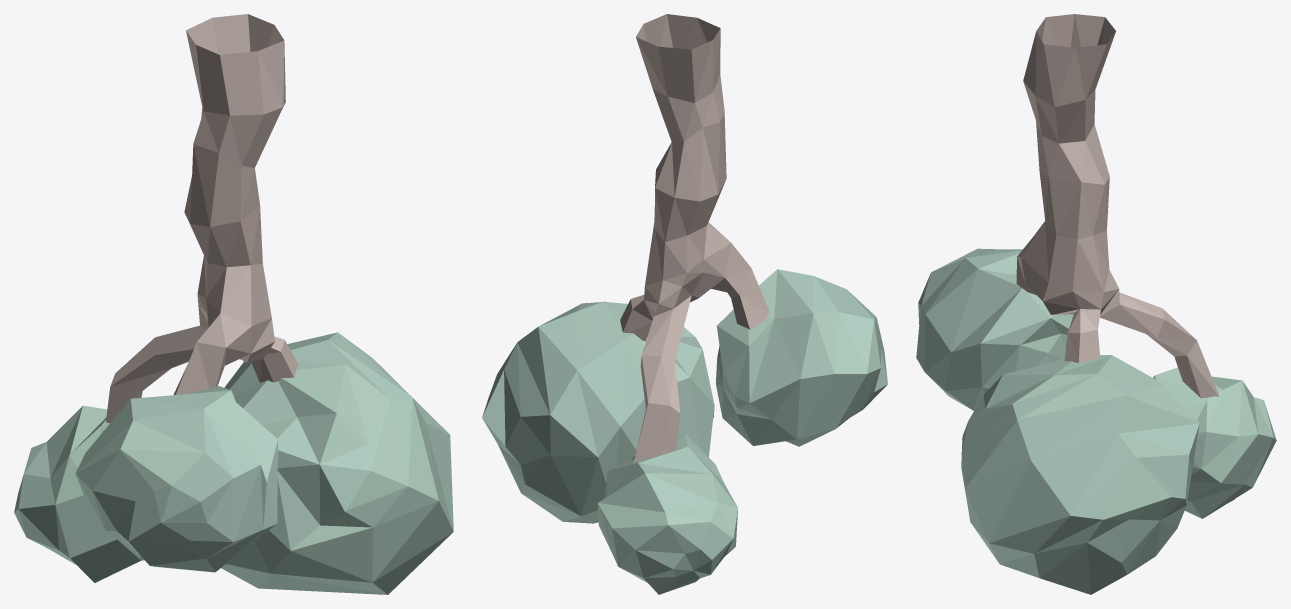
Rendered from TreeNormal.fbx.
3 renders of one model, left to right at view 1: azimuth 30°, elevation 25°; view 2: azimuth 150°, elevation 25°; view 3: azimuth 270°, elevation 25°, orthographic. The views are drawn at different scales.
Parts seen in each view (by area): view 1: Leaves, Trunk; view 2: Leaves, Trunk; view 3: Leaves, Trunk.
Part boxes in pixels (x1,y1,x2,y2): Leaves: (14, 332, 453, 594); Trunk: (106, 14, 298, 423); Leaves: (482, 269, 887, 594); Trunk: (620, 14, 769, 463); Leaves: (916, 248, 1276, 594); Trunk: (1016, 14, 1219, 398).
Bounding box in the file's own units: 24.2 × 33.17 × 21.48.
